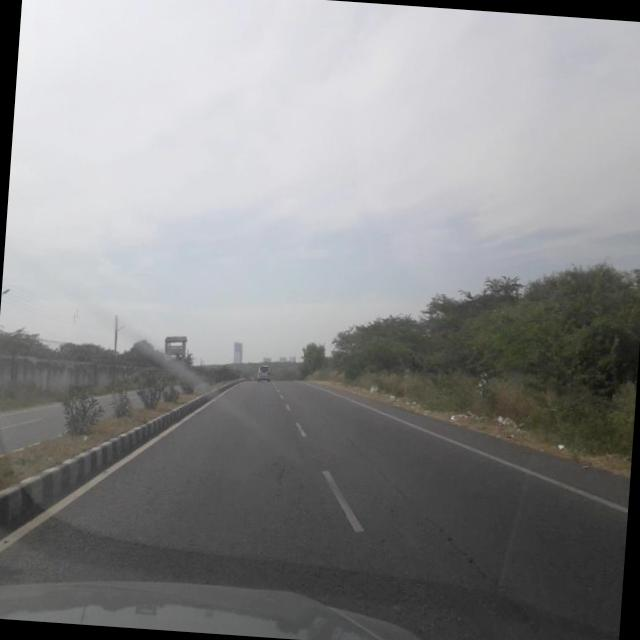crack: (316, 418, 563, 640), (264, 437, 318, 526)
